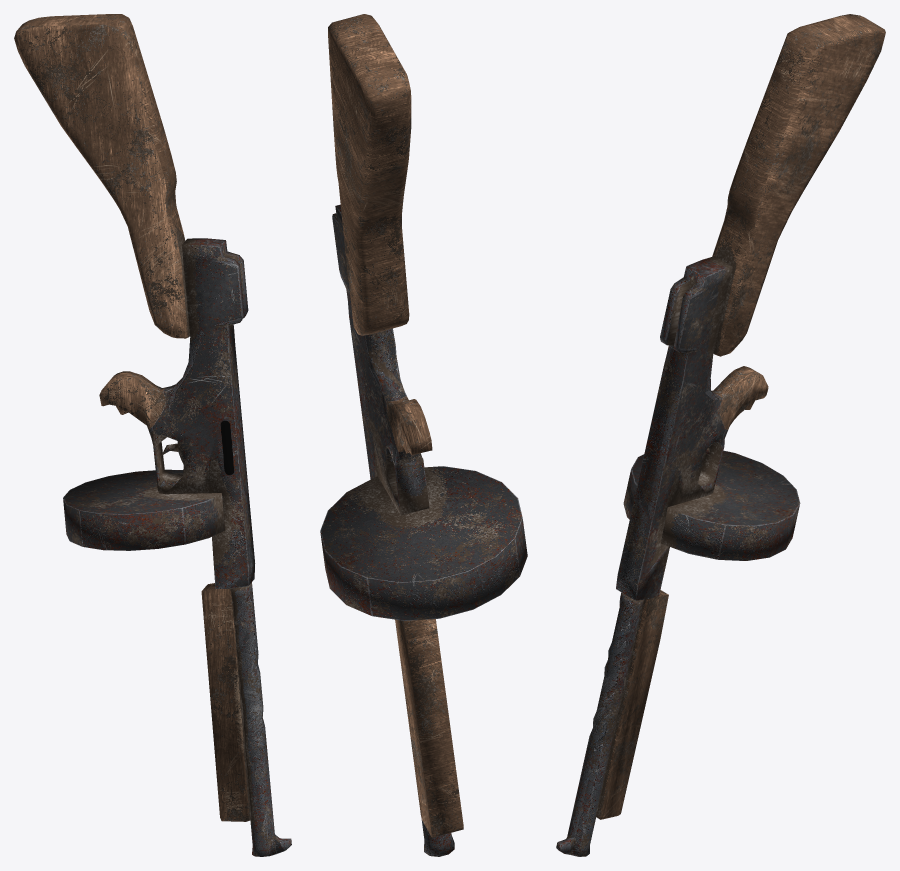
The model's file is Anim_idle_ametralladora_objetos.0034.obj.
3 renders of one model, left to right at view 1: azimuth 30°, elevation 25°; view 2: azimuth 150°, elevation 25°; view 3: azimuth 270°, elevation 25°, orthographic. The views are drawn at different scales.
Parts seen in each view (by area): view 1: Ametralladora1; view 2: Ametralladora1; view 3: Ametralladora1.
Part boxes in pixels (x1,y1,x2,y2): Ametralladora1: (14, 14, 291, 856); Ametralladora1: (320, 14, 527, 856); Ametralladora1: (556, 14, 885, 856).
Size of the model in its own units: 1.25 by 5.86 by 2.19.
